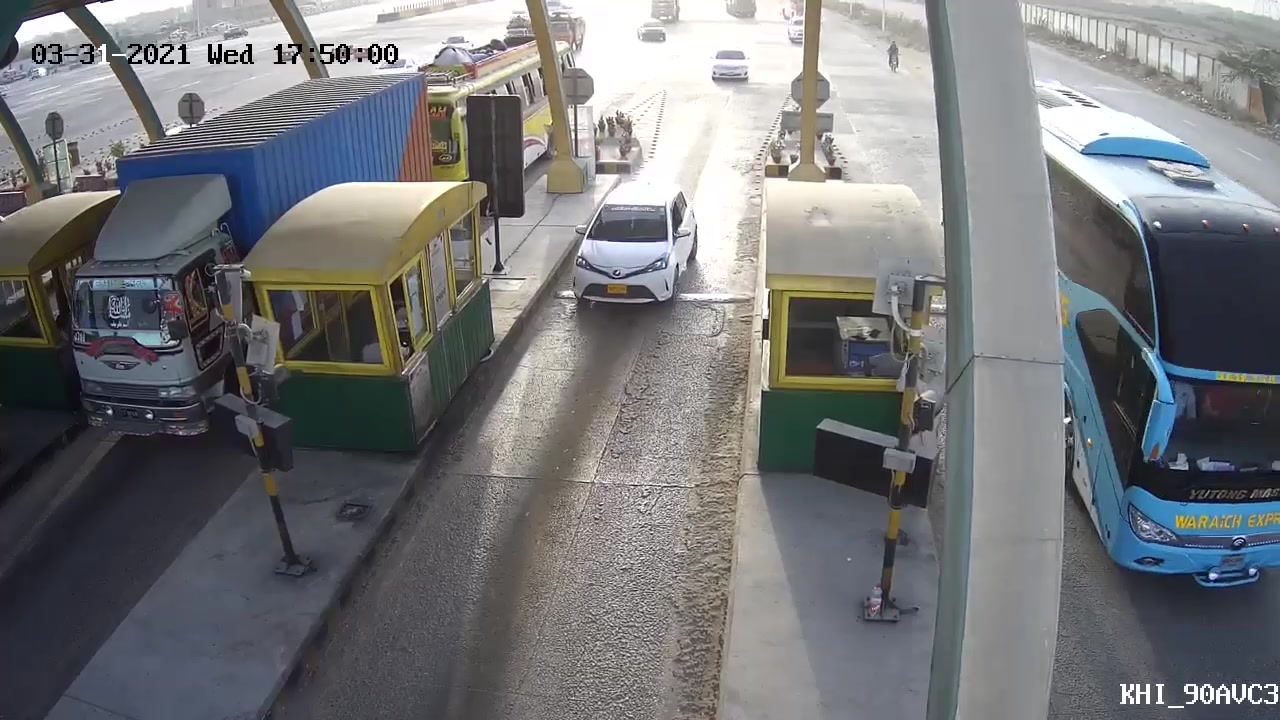F1: (556, 182, 701, 322)
